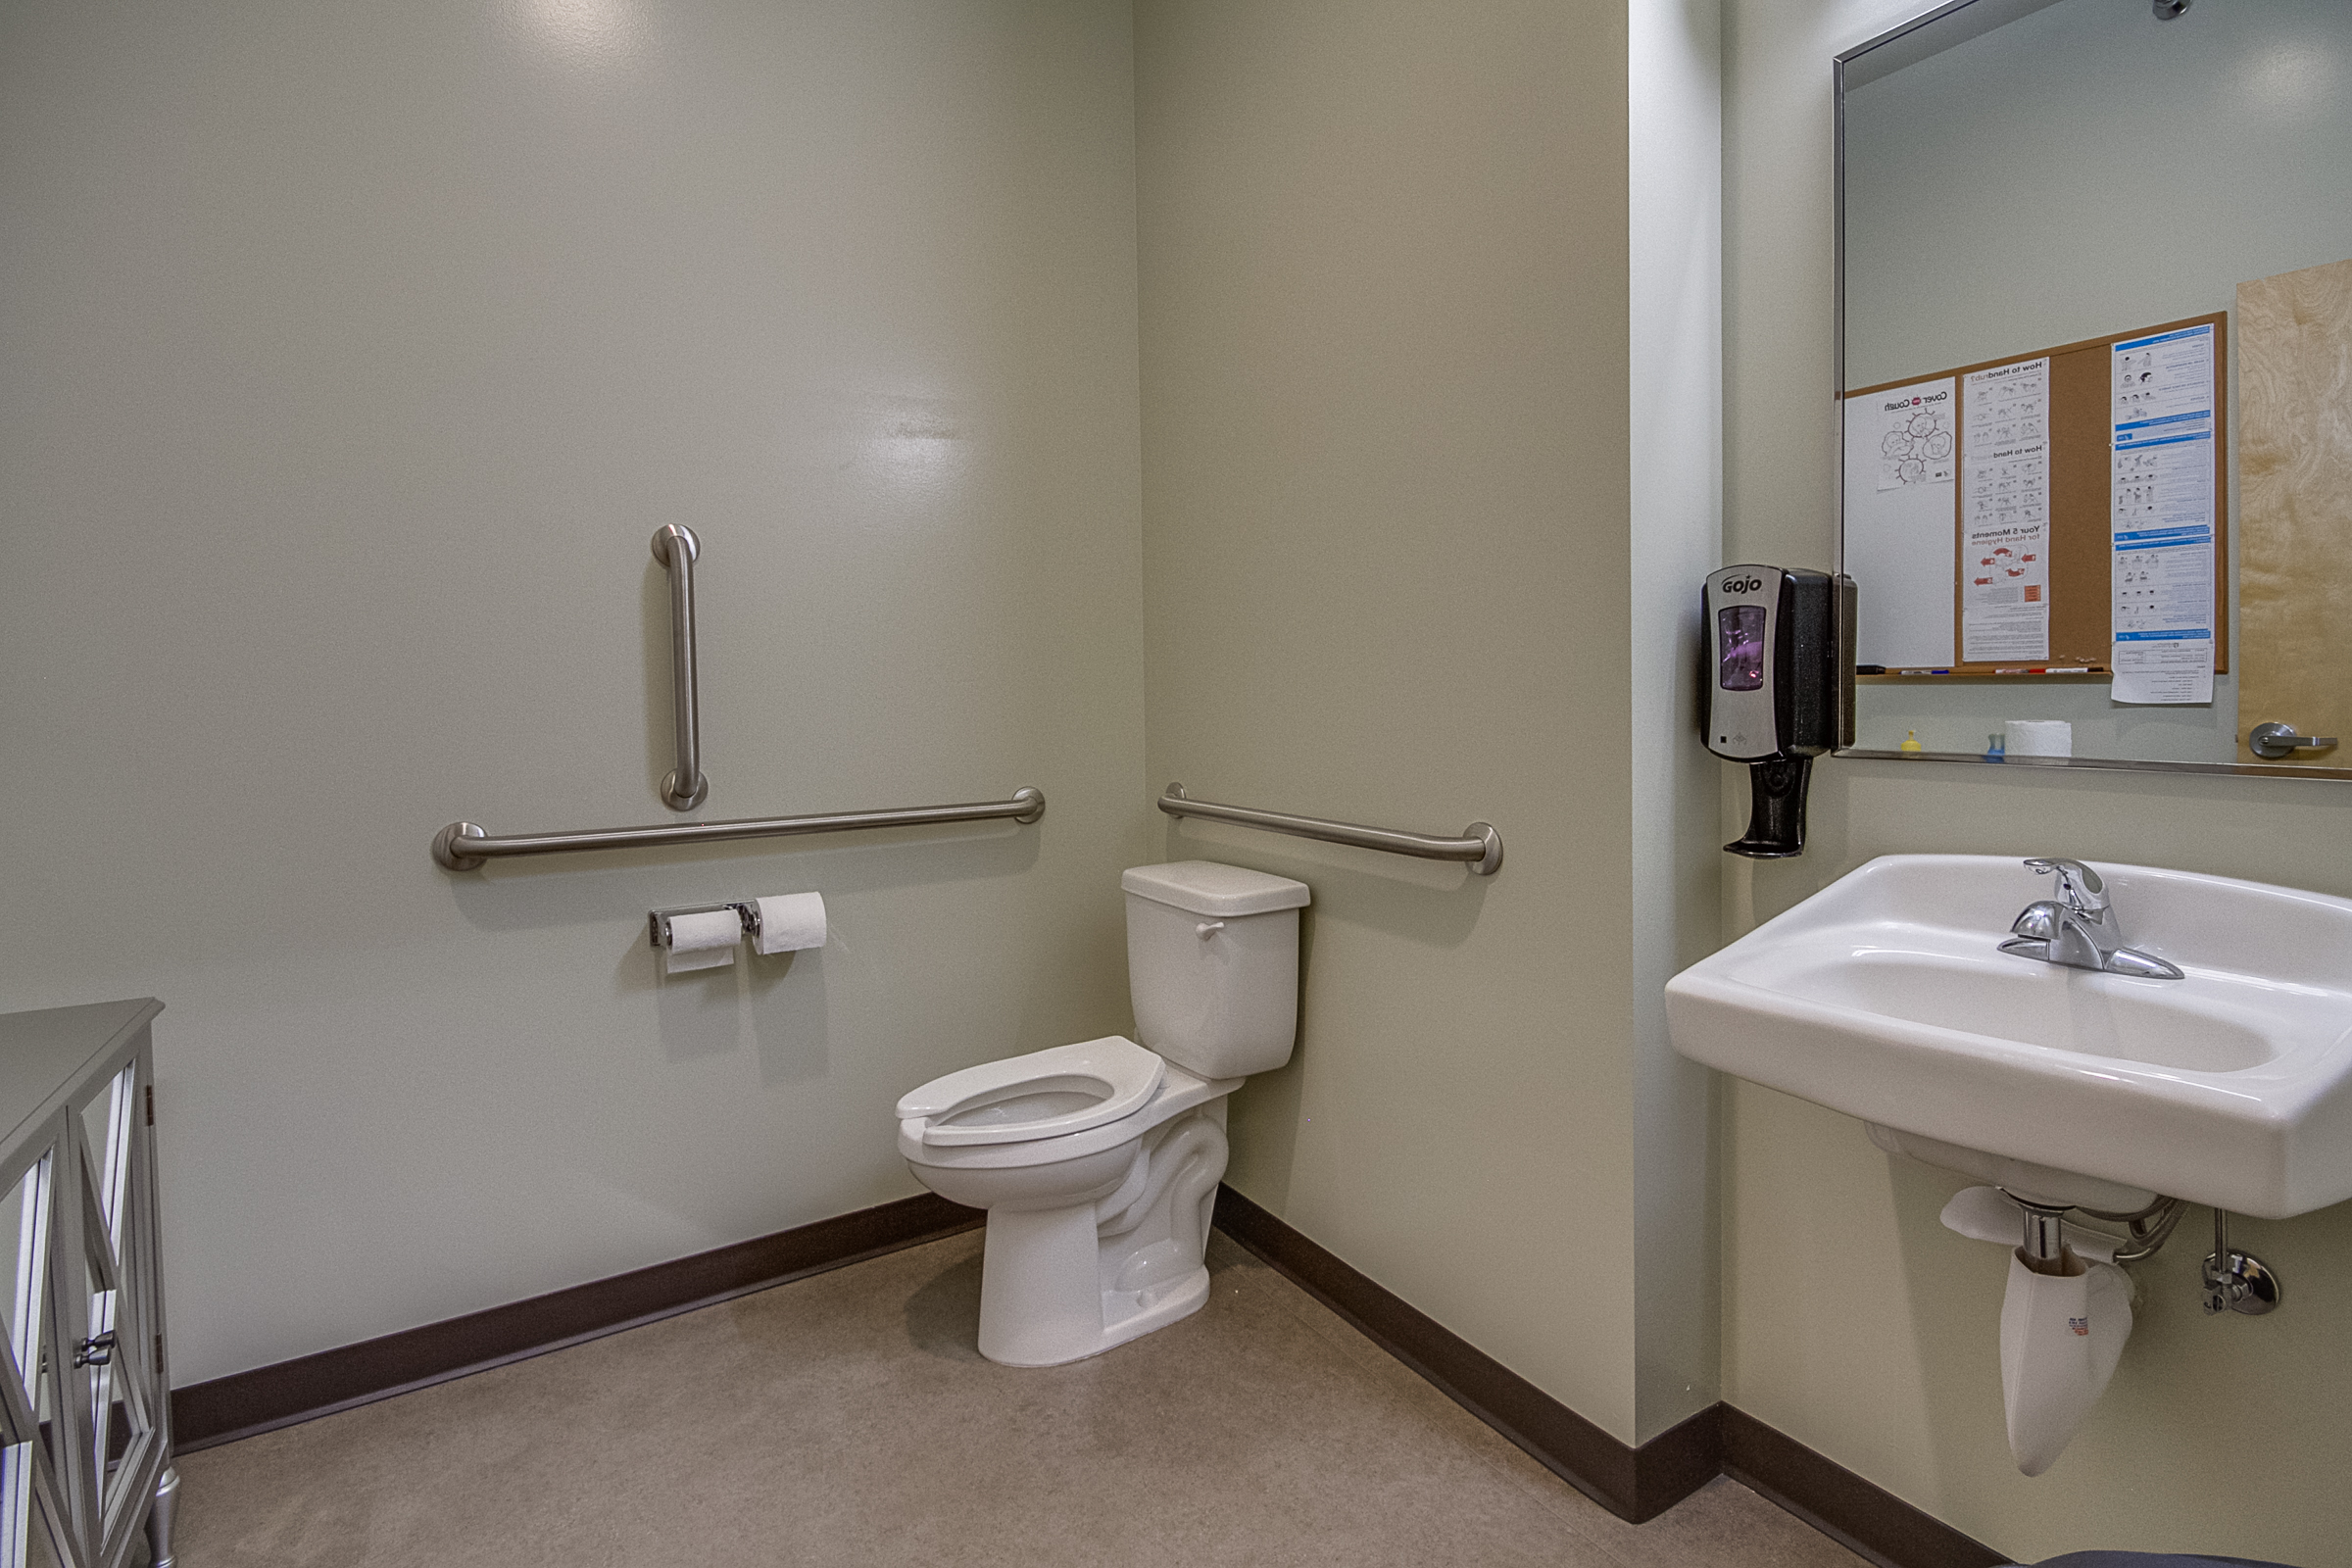dispenser: (1699, 562, 1841, 859), (646, 892, 831, 959)
door_handle: (2249, 716, 2352, 758)
faucet: (1997, 854, 2184, 978)
handle: (58, 1344, 129, 1372), (59, 1319, 131, 1346)
restroom_assist_bar: (420, 780, 1080, 878), (1153, 752, 1524, 871), (620, 523, 730, 817)
sink: (1662, 850, 2350, 1272)
toilet: (892, 856, 1314, 1368)
toilet_handle: (1190, 912, 1230, 950)
